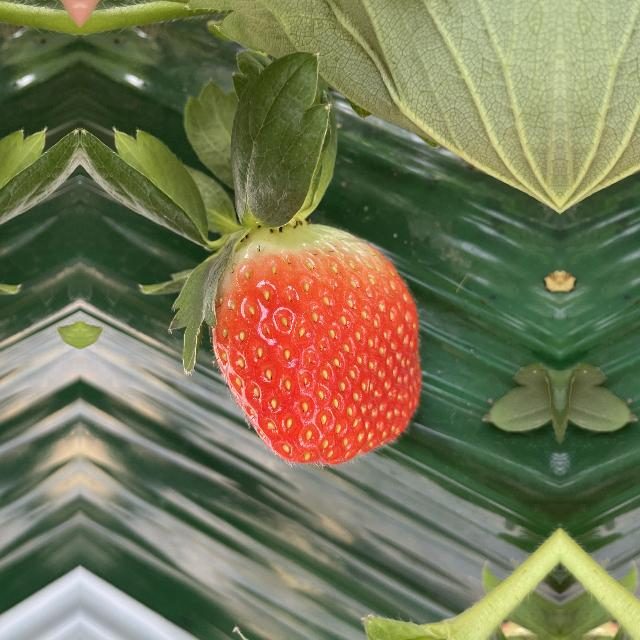Health_100: (204, 218, 433, 470)
